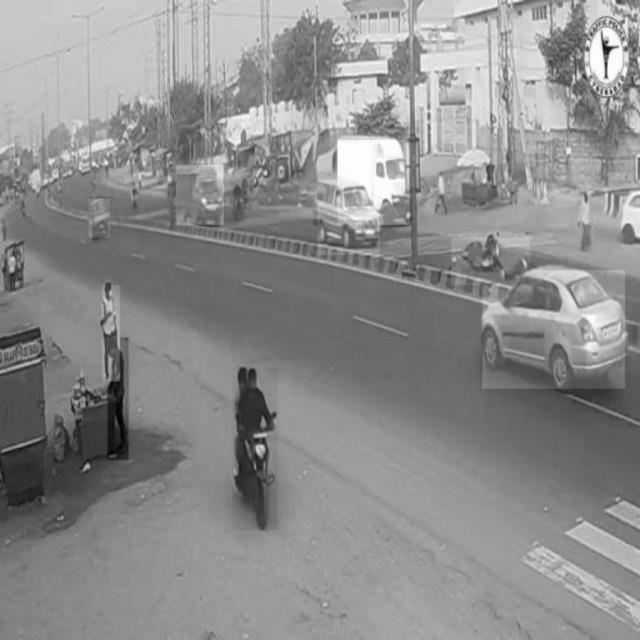accident: (452, 237, 530, 285)
person: (108, 338, 128, 460), (102, 285, 120, 381)
vehicle: (482, 270, 626, 388), (233, 367, 278, 531), (338, 141, 410, 225), (318, 180, 380, 254), (177, 165, 224, 225), (89, 199, 109, 237)
